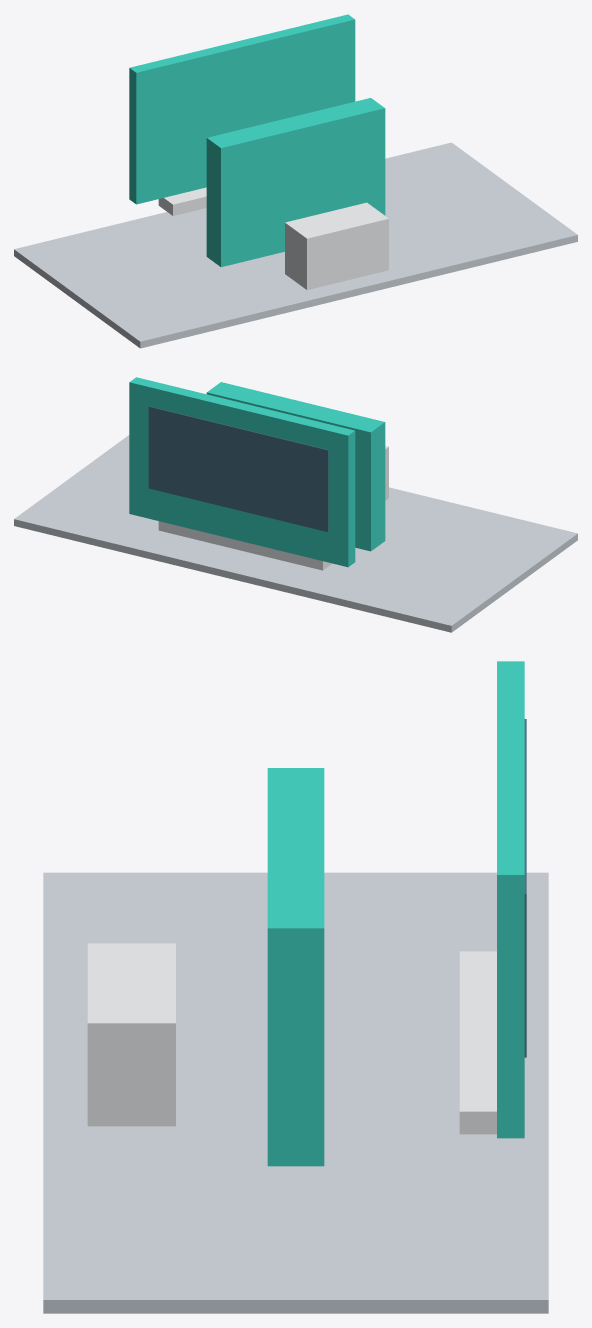
3 renders of one model, top to bottom at view 1: azimuth 30°, elevation 25°; view 2: azimuth 150°, elevation 25°; view 3: azimuth 270°, elevation 25°, orthographic. The views are drawn at different scales.
Parts seen in each view (by area): view 1: Exhibition Booth Concept; view 2: Exhibition Booth Concept; view 3: Exhibition Booth Concept.
Boxes of the visible parts, x1=… form: Exhibition Booth Concept: x1=14, y1=14, x2=577, y2=348; Exhibition Booth Concept: x1=14, y1=377, x2=577, y2=632; Exhibition Booth Concept: x1=43, y1=661, x2=548, y2=1313.
Size of the model in its own units: 8 by 2.9 by 4.
